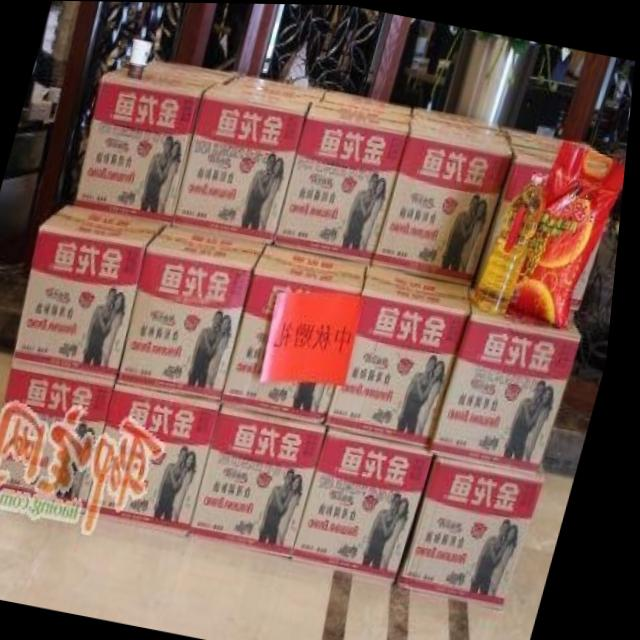box: (228, 242, 372, 425), (123, 221, 270, 399), (437, 301, 587, 475), (21, 204, 171, 377), (334, 262, 475, 445), (375, 115, 516, 281), (407, 455, 552, 609), (301, 426, 441, 584), (177, 82, 313, 243), (278, 99, 412, 262), (77, 66, 215, 222), (198, 401, 333, 560), (96, 383, 228, 536), (0, 359, 124, 512)
